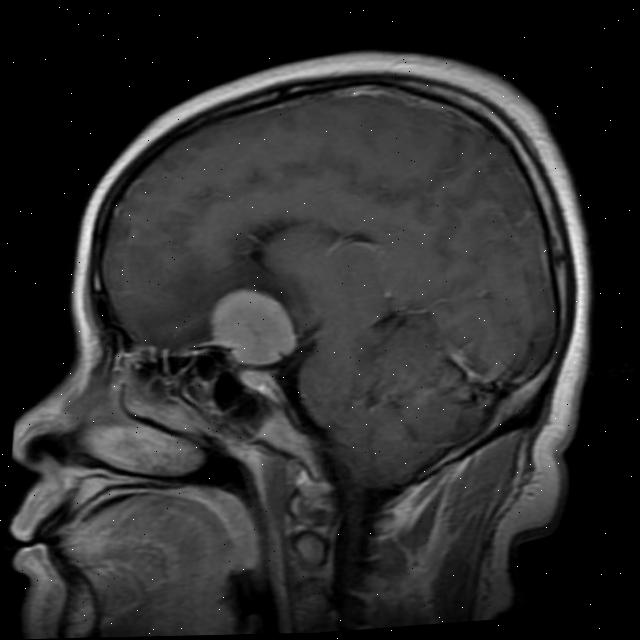Meningioma: (206, 283, 300, 370)
